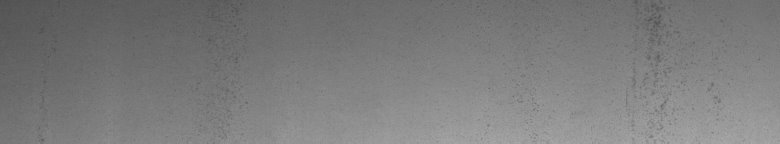ib: (633, 5, 721, 136)
